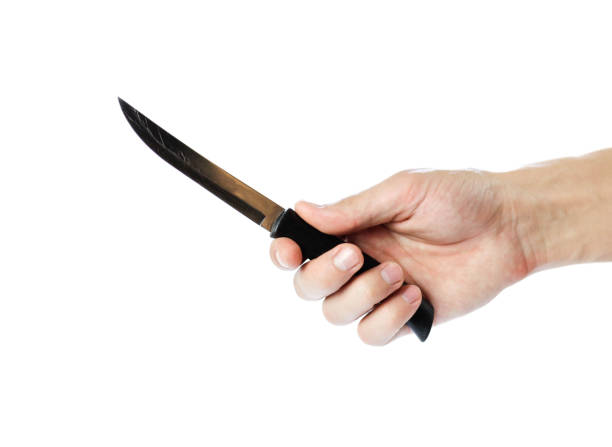knife: (116, 95, 436, 345)
